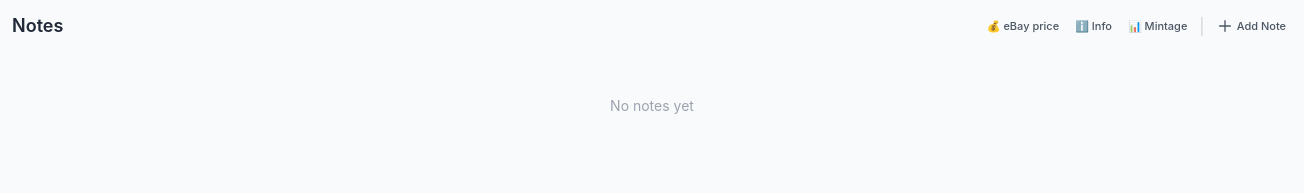
Scenario: CoinNotesList AI query › shows a friendly localized error (and creates nothing) when the query fails
This screenshot has width=1304, height=193.
Click the button "💰 eBay price": [1023, 26] box [981, 16, 1065, 36]
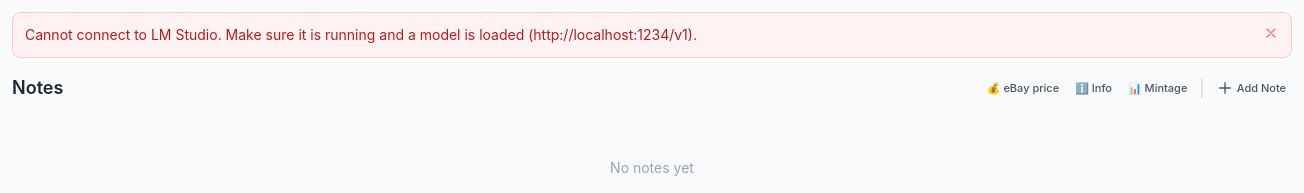
Result: the text "Cannot connect to LM Studio" is shown at [25, 26, 697, 43]
